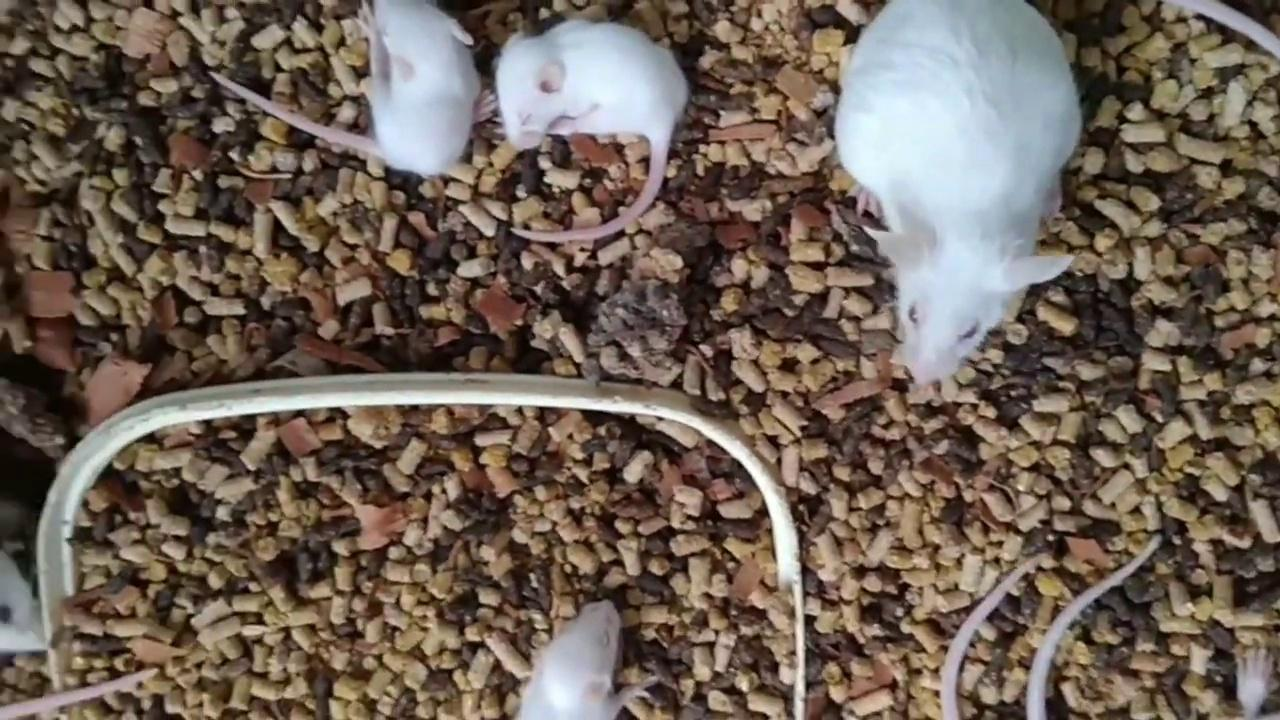rat: (834, 0, 1083, 385), (209, 0, 486, 175), (497, 16, 692, 245), (512, 601, 664, 720)
